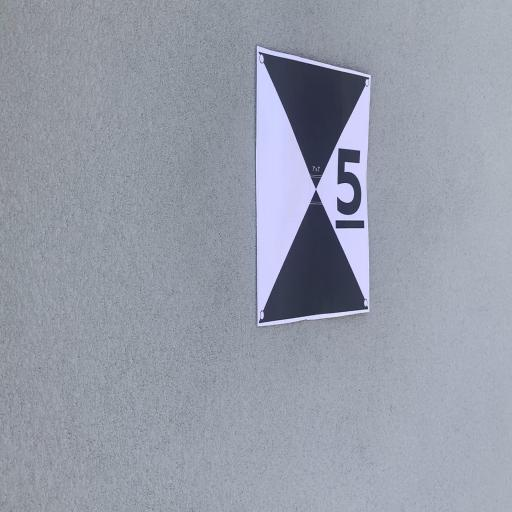target5: (257, 47, 373, 326)
